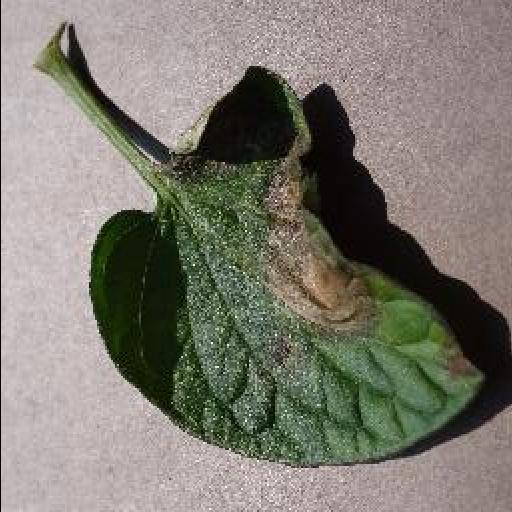disease_tomato: (87, 62, 489, 468)
